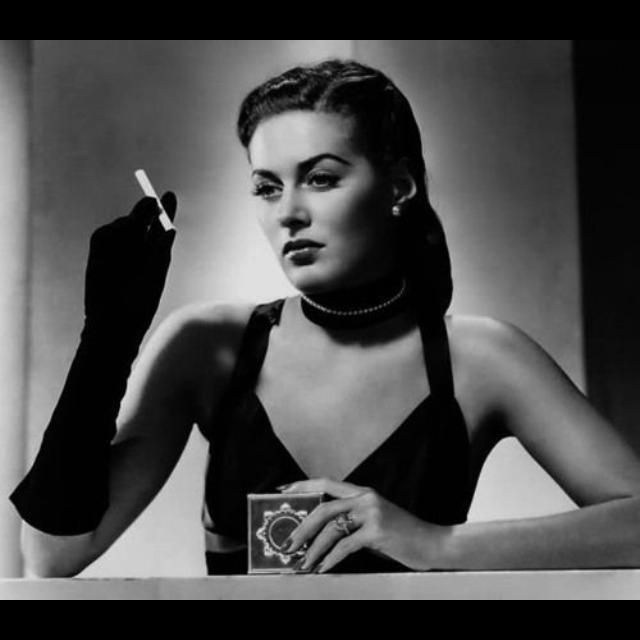rokok: (129, 163, 183, 237)
